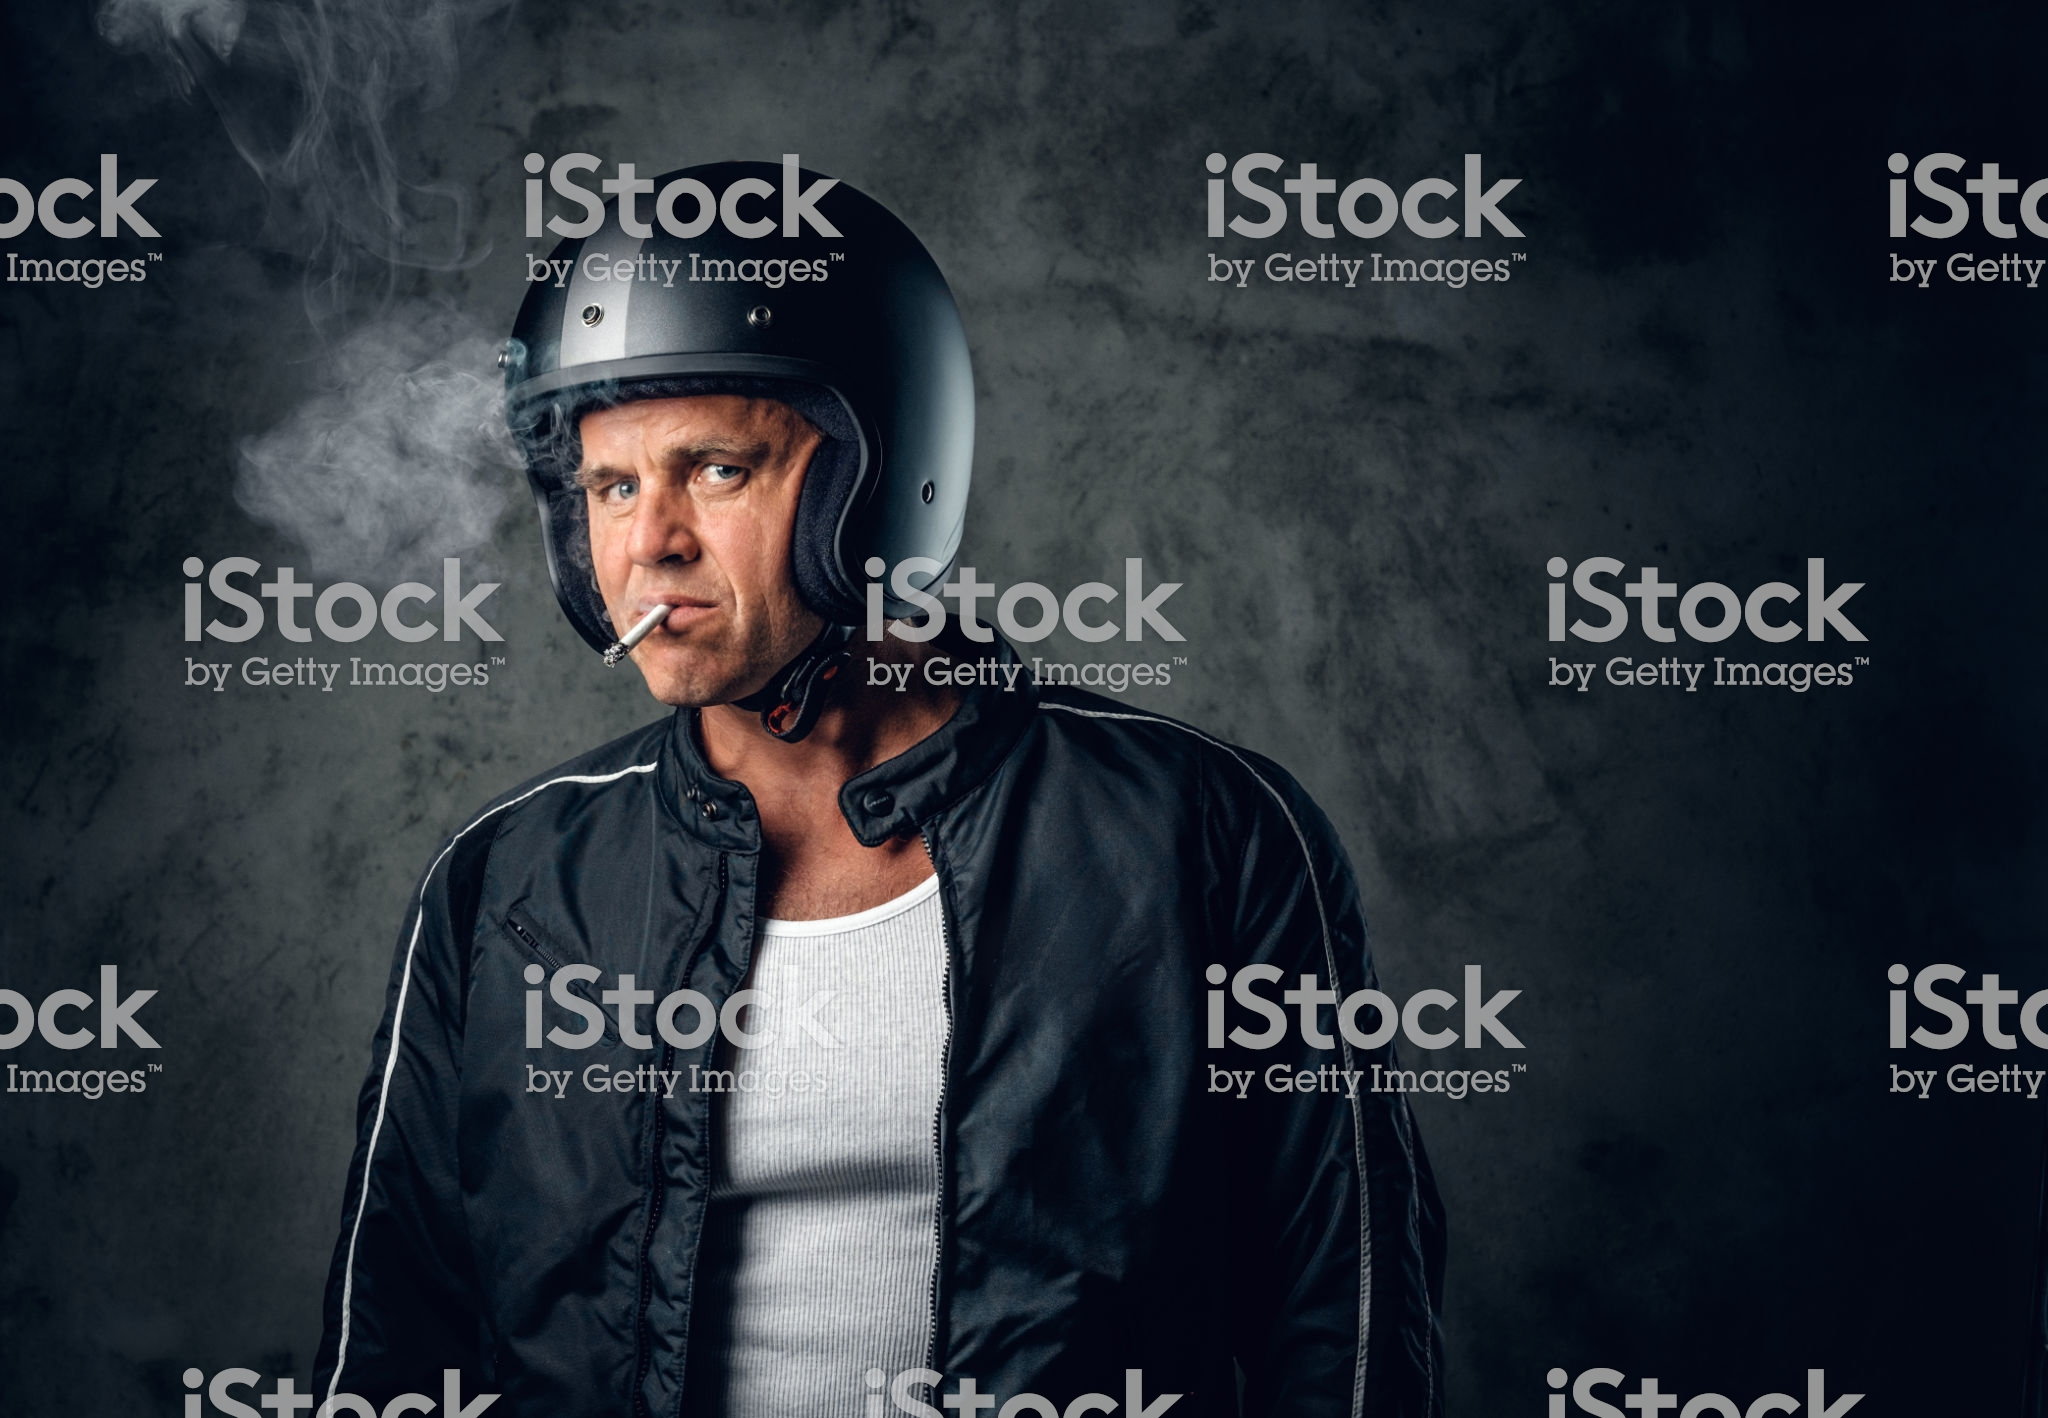helmet: (518, 184, 1019, 640)
